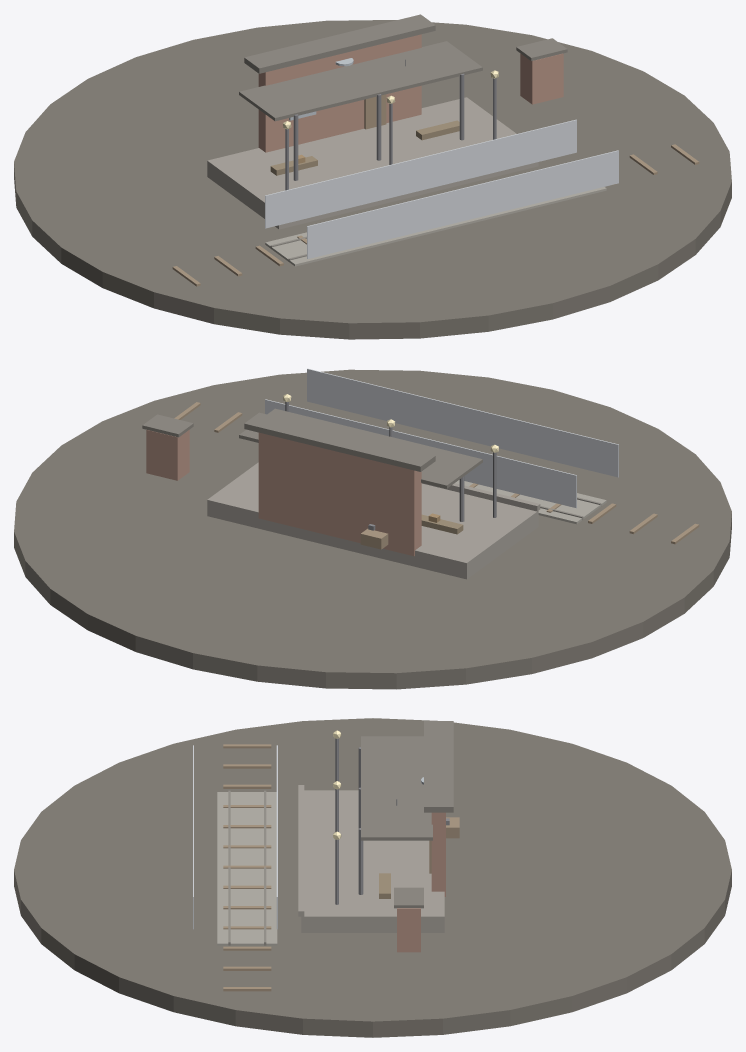
The model's file is amber_cipher_station.glb.
The picture shows the model from 3 angles, top to bottom: view 1: azimuth 30°, elevation 25°; view 2: azimuth 150°, elevation 25°; view 3: azimuth 270°, elevation 25°; orthographic projection.
Parts seen in each view (by area): view 1: DioramaBase, Platform, Fog_-0.8, Fog_-1.5, Awning, StationWall, StationRoof, Gravel, SignalBox, SignalRoof, Door; view 2: DioramaBase, StationWall, Platform, Fog_-1.5, Fog_-0.8, StationRoof, Awning, SignalBox, Gravel, PlatformEdge, SignalRoof; view 3: DioramaBase, Platform, Gravel, Awning, StationRoof, StationWall, SignalBox, PlatformEdge, SignalRoof.
Boxes of the visible parts, x1=… form: DioramaBase: x1=14, y1=20, x2=731, y2=339; Platform: x1=207, y1=97, x2=538, y2=229; Fog_-0.8: x1=265, y1=119, x2=576, y2=228; Fog_-1.5: x1=307, y1=150, x2=618, y2=259; Awning: x1=239, y1=41, x2=482, y2=121; StationWall: x1=258, y1=34, x2=421, y2=152; StationRoof: x1=244, y1=14, x2=435, y2=73; Gravel: x1=265, y1=187, x2=606, y2=266; SignalBox: x1=520, y1=53, x2=563, y2=104; SignalRoof: x1=516, y1=38, x2=567, y2=61; Door: x1=364, y1=94, x2=386, y2=129; DioramaBase: x1=14, y1=369, x2=731, y2=689; StationWall: x1=258, y1=432, x2=421, y2=556; Platform: x1=207, y1=462, x2=538, y2=579; Fog_-1.5: x1=307, y1=368, x2=618, y2=477; Fog_-0.8: x1=265, y1=399, x2=576, y2=508; StationRoof: x1=244, y1=412, x2=435, y2=471; Awning: x1=239, y1=408, x2=482, y2=488; SignalBox: x1=146, y1=430, x2=189, y2=480; Gravel: x1=455, y1=480, x2=606, y2=524; PlatformEdge: x1=422, y1=483, x2=540, y2=511; SignalRoof: x1=142, y1=414, x2=193, y2=437; DioramaBase: x1=14, y1=718, x2=731, y2=1037; Platform: x1=301, y1=790, x2=444, y2=932; Gravel: x1=217, y1=792, x2=277, y2=945; Awning: x1=361, y1=736, x2=432, y2=840; StationRoof: x1=424, y1=721, x2=453, y2=812; StationWall: x1=431, y1=812, x2=445, y2=896; SignalBox: x1=397, y1=908, x2=420, y2=952; PlatformEdge: x1=298, y1=785, x2=304, y2=916; SignalRoof: x1=394, y1=887, x2=423, y2=908.
Bounding box in the file's own units: 6 × 1.12 × 6.
